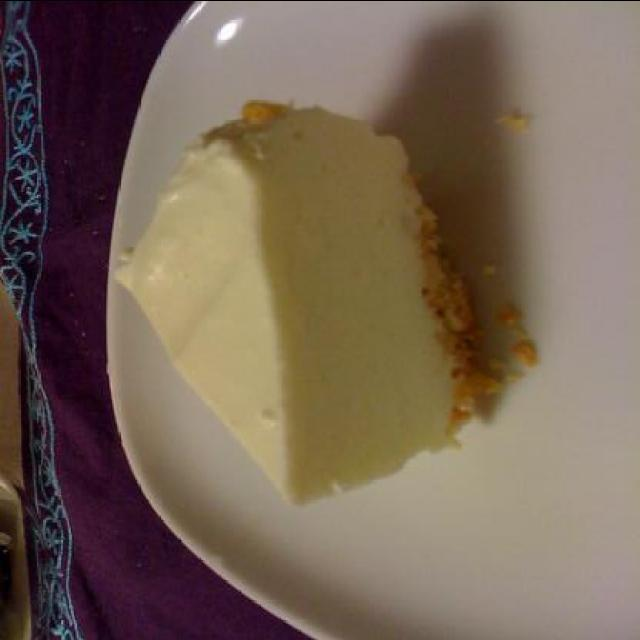Rare cheese cake: (103, 80, 545, 528)
